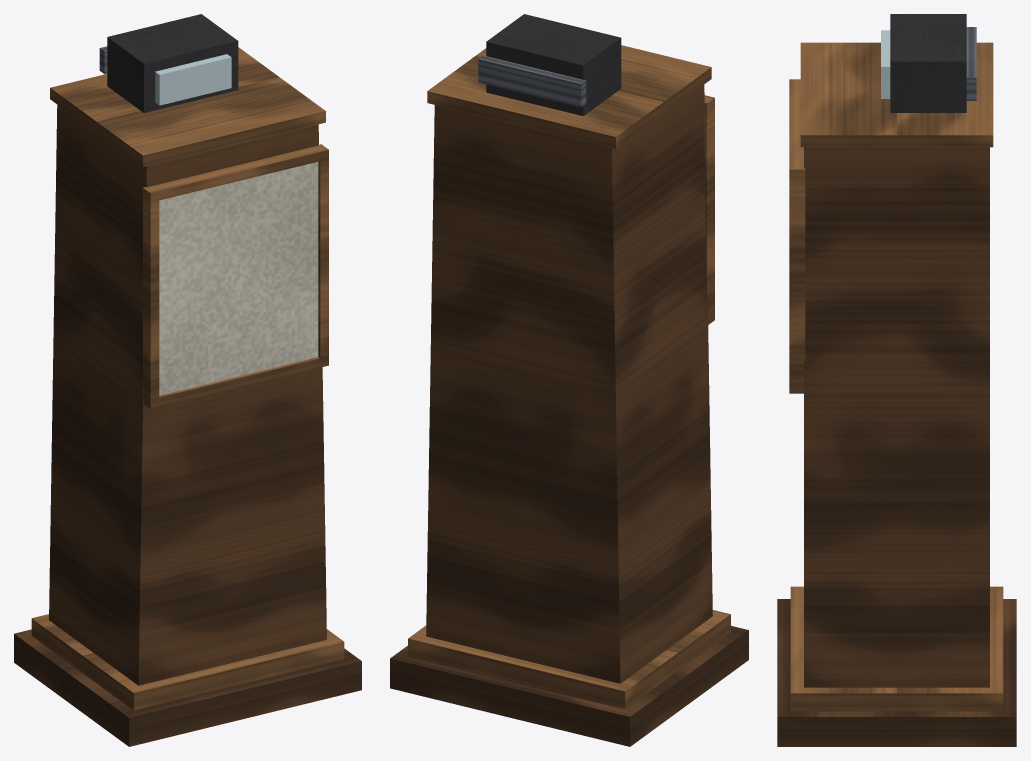
Rendered from vr_console.fbx.
The picture shows the model from 3 angles, left to right: view 1: azimuth 30°, elevation 25°; view 2: azimuth 150°, elevation 25°; view 3: azimuth 270°, elevation 25°; orthographic projection. The views are drawn at different scales.
Visible parts, largest first — view 1: vr_console; view 2: vr_console; view 3: vr_console.
Part boxes in pixels (x1,y1,x2,y2): vr_console: [14, 14, 361, 746]; vr_console: [390, 14, 748, 746]; vr_console: [777, 14, 1016, 746].
Bounding box in the file's own units: 42 × 108 × 36.
